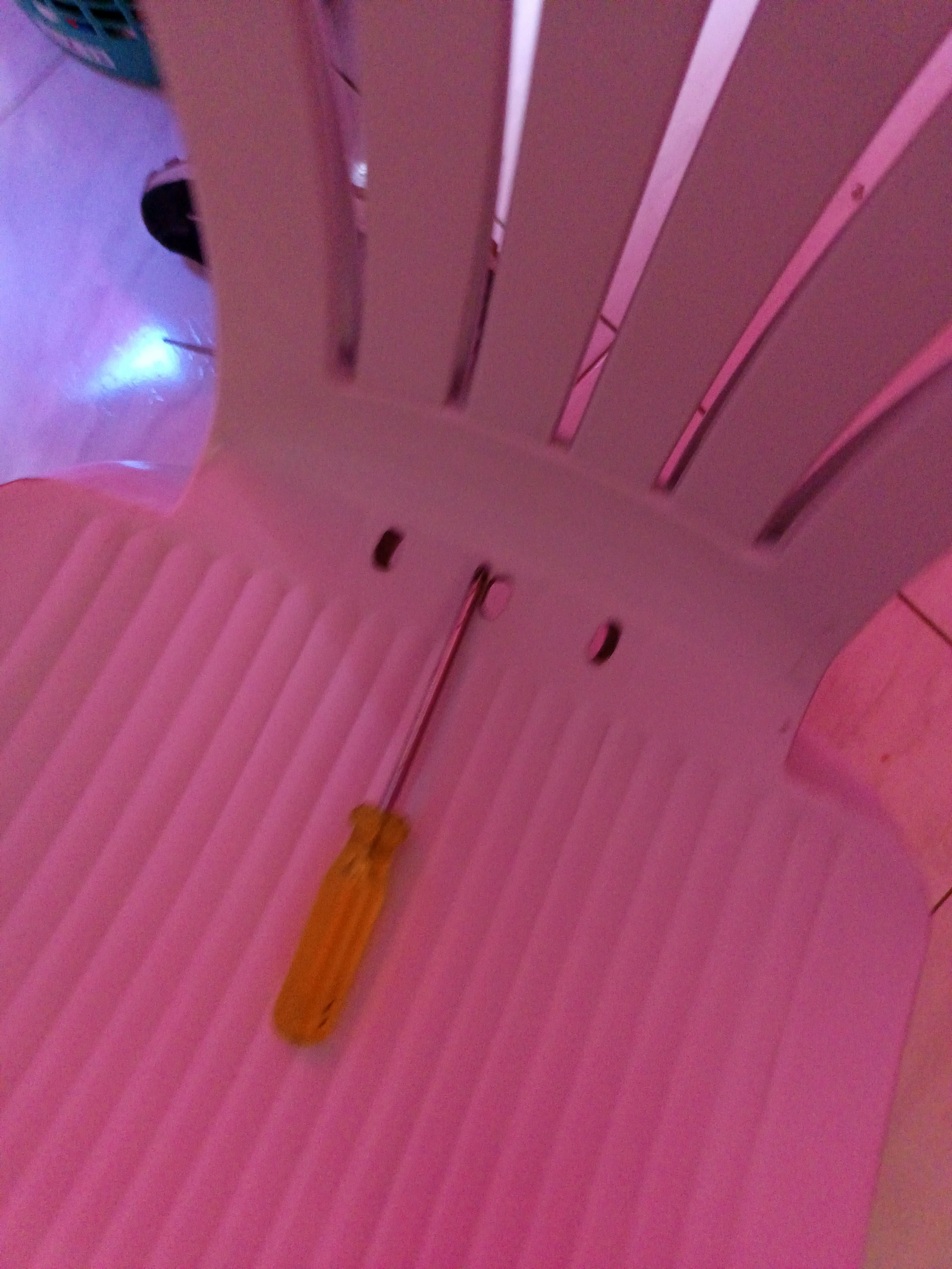Destornillador: (274, 565, 490, 1044)
